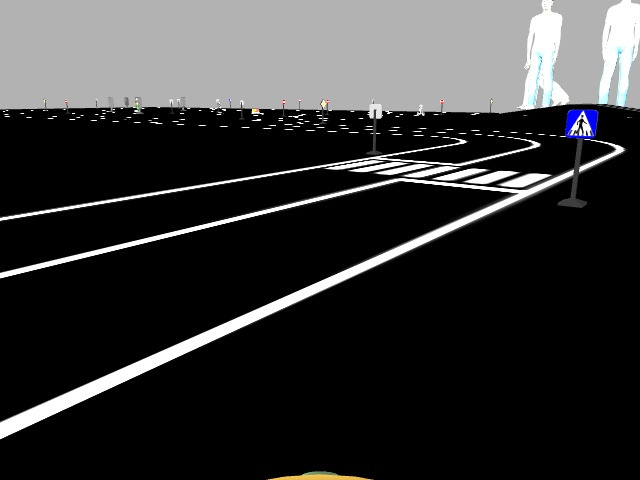Crosswalk: (567, 108, 595, 138)
